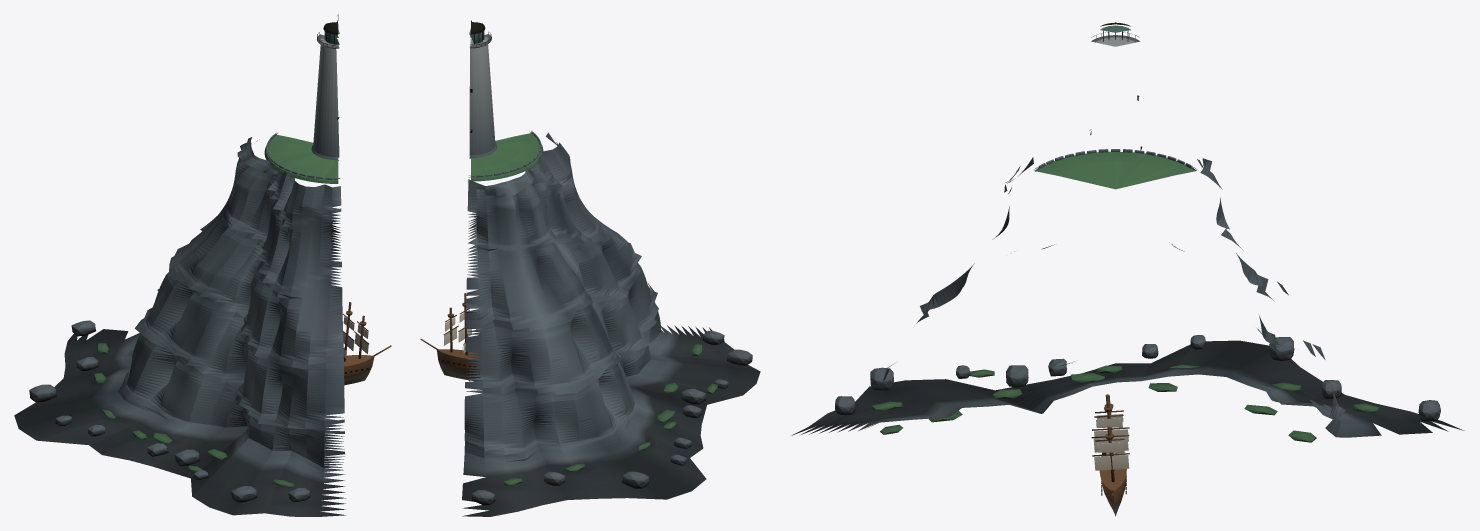
The model's file is coast-s2-TyuW3tTO.glb.
The picture shows the model from 3 angles, left to right: view 1: azimuth 30°, elevation 25°; view 2: azimuth 150°, elevation 25°; view 3: azimuth 270°, elevation 25°; orthographic projection. The views are drawn at different scales.
Visible parts, largest first — view 1: sc_landmark_1, sc_galleon_up; view 2: sc_landmark_1, sc_galleon_up; view 3: sc_landmark_1, sc_galleon_up.
Part boxes in pixels (x1,y1,x2,y2): sc_landmark_1: (14,14,346,516); sc_galleon_up: (342,302,391,385); sc_landmark_1: (462,20,760,516); sc_galleon_up: (420,293,481,381); sc_landmark_1: (791,22,1464,442); sc_galleon_up: (1091,394,1129,516).
Size of the model in its own units: 283 by 320 by 393.
